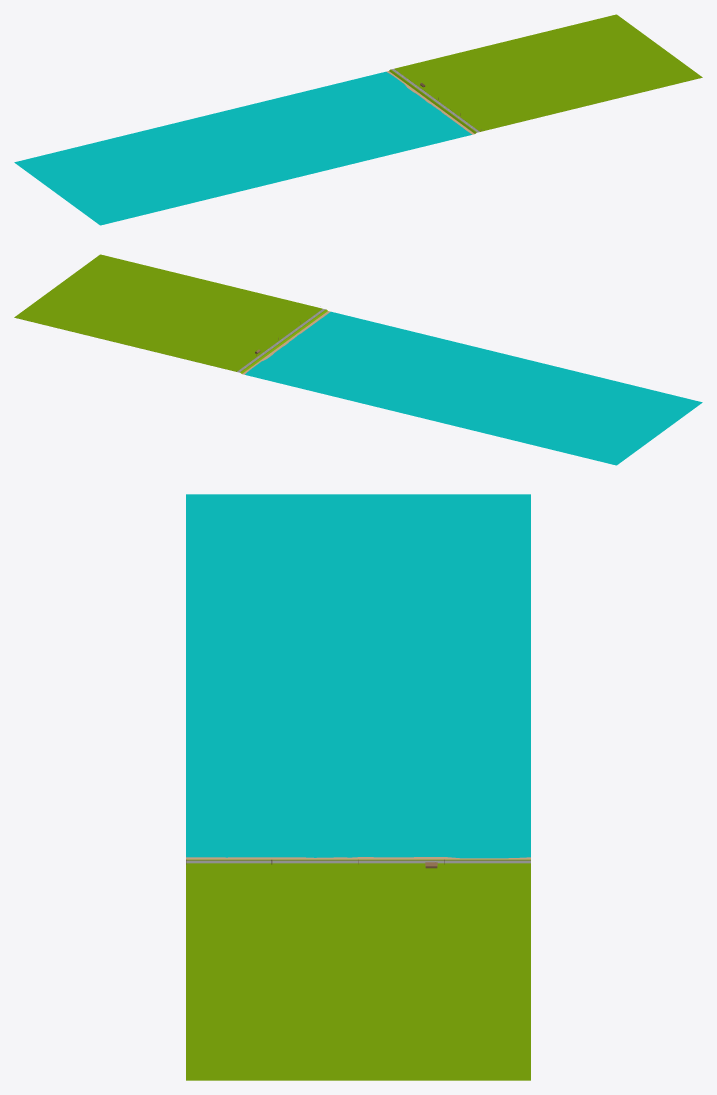
The model's file is searoad03.glb.
The picture shows the model from 3 angles, top to bottom: view 1: azimuth 30°, elevation 25°; view 2: azimuth 150°, elevation 25°; view 3: azimuth 270°, elevation 25°; orthographic projection. The views are drawn at different scales.
Visible parts, largest first — view 1: Geom3D (×2); view 2: Geom3D (×2); view 3: Geom3D (×4).
Part boxes in pixels (<box>): Geom3D (×2): <box>14,14,702,225</box>; Geom3D (×2): <box>14,254,702,465</box>; Geom3D (×4): <box>186,494,530,1080</box>.
Size of the model in its own units: 1.65e+07 by 91057 by 4085865.
Materials: 11 (4 with a texture image).
